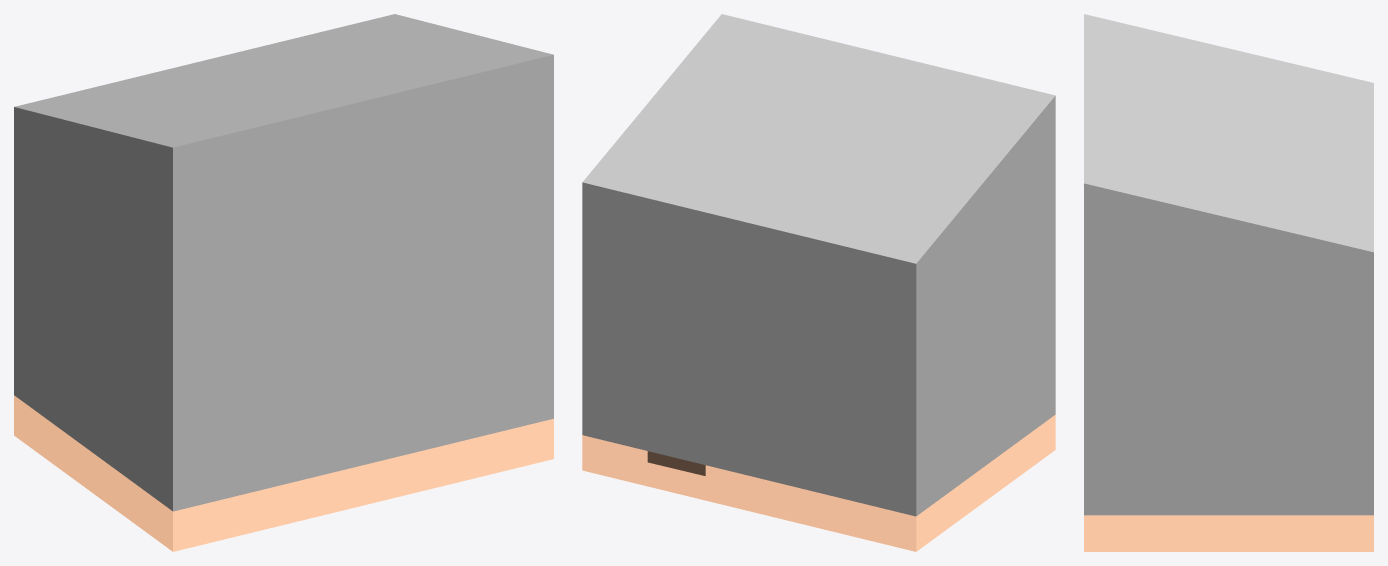
The model's file is gewhaus1.fbx.
The picture shows the model from 3 angles, left to right: view 1: azimuth 30°, elevation 25°; view 2: azimuth 150°, elevation 25°; view 3: azimuth 270°, elevation 25°; orthographic projection. The views are drawn at different scales.
Parts seen in each view (by area): view 1: gewhaus1; view 2: gewhaus1; view 3: gewhaus1.
Boxes of the visible parts, left/top/right/bottom form: gewhaus1: left=14, top=14, right=553, bottom=551; gewhaus1: left=582, top=14, right=1055, bottom=551; gewhaus1: left=1084, top=14, right=1373, bottom=551.
Size of the model in its own units: 2595 by 2633 by 1878.
